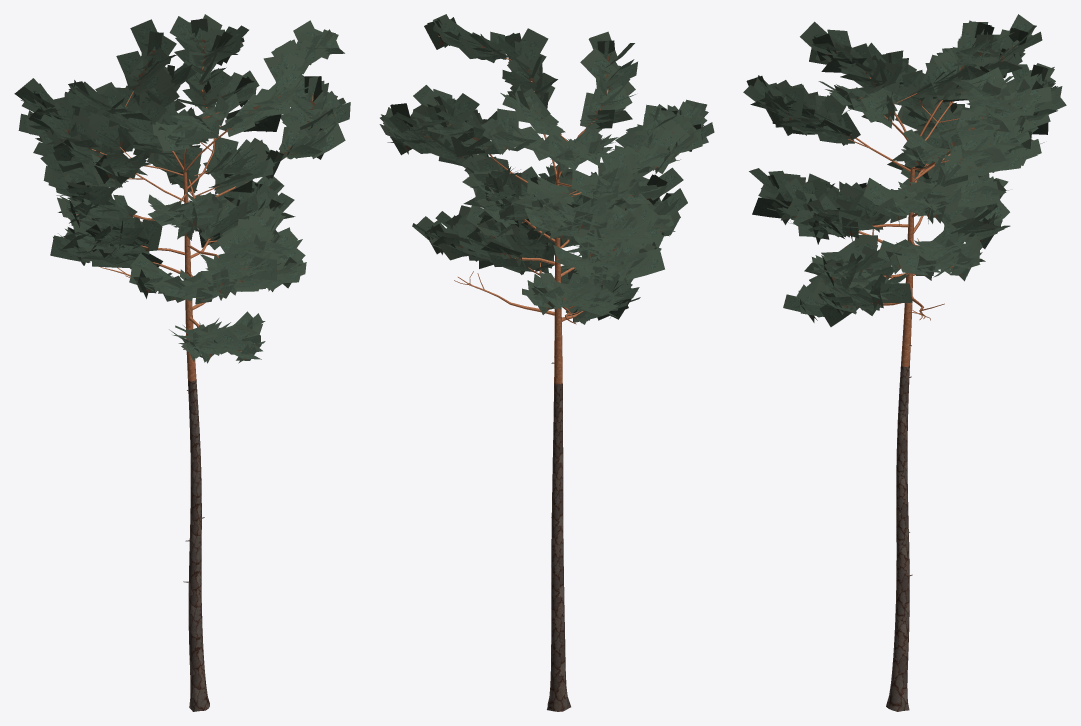
The model's file is pine_a_LOD0.fbx.
The picture shows the model from 3 angles, left to right: view 1: azimuth 30°, elevation 25°; view 2: azimuth 150°, elevation 25°; view 3: azimuth 270°, elevation 25°; orthographic projection. The views are drawn at different scales.
Parts seen in each view (by area): view 1: Pine_A_LOD0_Foliage, Pine_A_LOD0_Bark; view 2: Pine_A_LOD0_Foliage, Pine_A_LOD0_Bark; view 3: Pine_A_LOD0_Foliage, Pine_A_LOD0_Bark.
Part boxes in pixels (box(x1,y1,x2,y2)): Pine_A_LOD0_Foliage: box(14, 14, 350, 363); Pine_A_LOD0_Bark: box(76, 48, 313, 711); Pine_A_LOD0_Foliage: box(379, 14, 714, 324); Pine_A_LOD0_Bark: box(438, 35, 608, 711); Pine_A_LOD0_Foliage: box(743, 14, 1066, 326); Pine_A_LOD0_Bark: box(847, 48, 983, 711).
Size of the model in its own units: 9.78 by 21.09 by 9.06.
2 materials, 2 textured.
